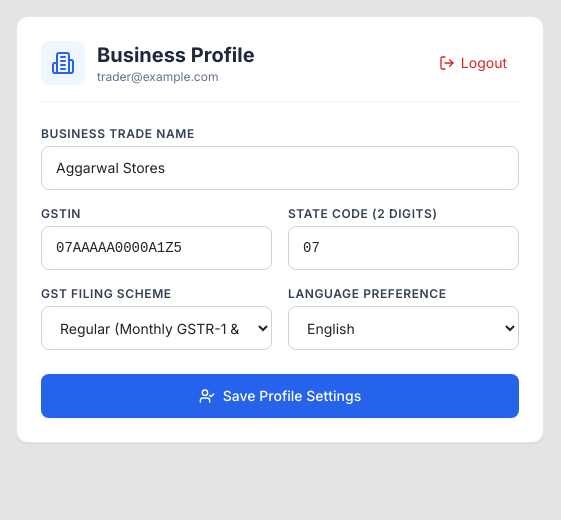
it: AuthAndProfile Component › displays business profile and allows saving settings when user is logged in
Expected: the heading "Business Profile" is shown, [97,41,255,69]
Expected: the field showing "07AAAAA0000A1Z5" below "GSTIN" is shown, [41,226,272,270]
Replace the text in the field showing "Aggarwal Stores" below "Business Trade Name" with "Aggarwal & Sons". click: coordinates (280, 168)
box: [41,146,519,190]
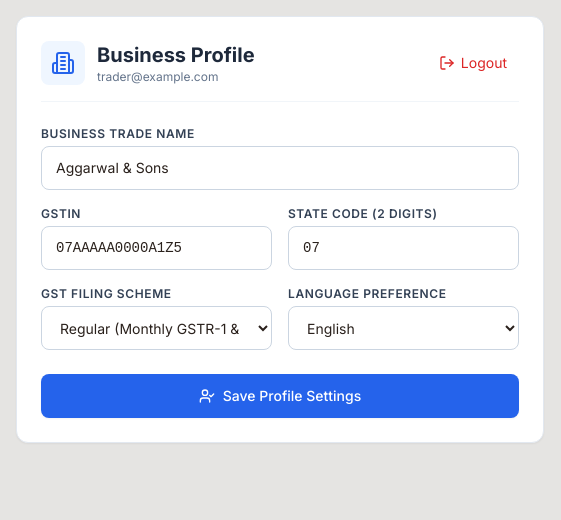
Click the button "Save Profile Settings". click: coordinates (280, 396)
box: [41,374,519,418]
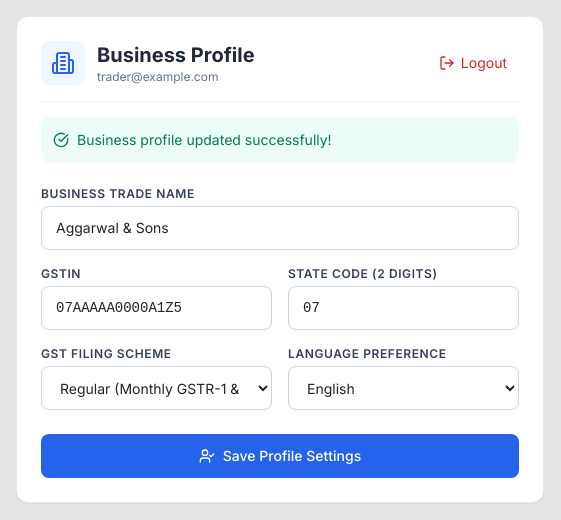
Result: the text "Business profile updated successfully!" is shown at [77,130,332,150]
